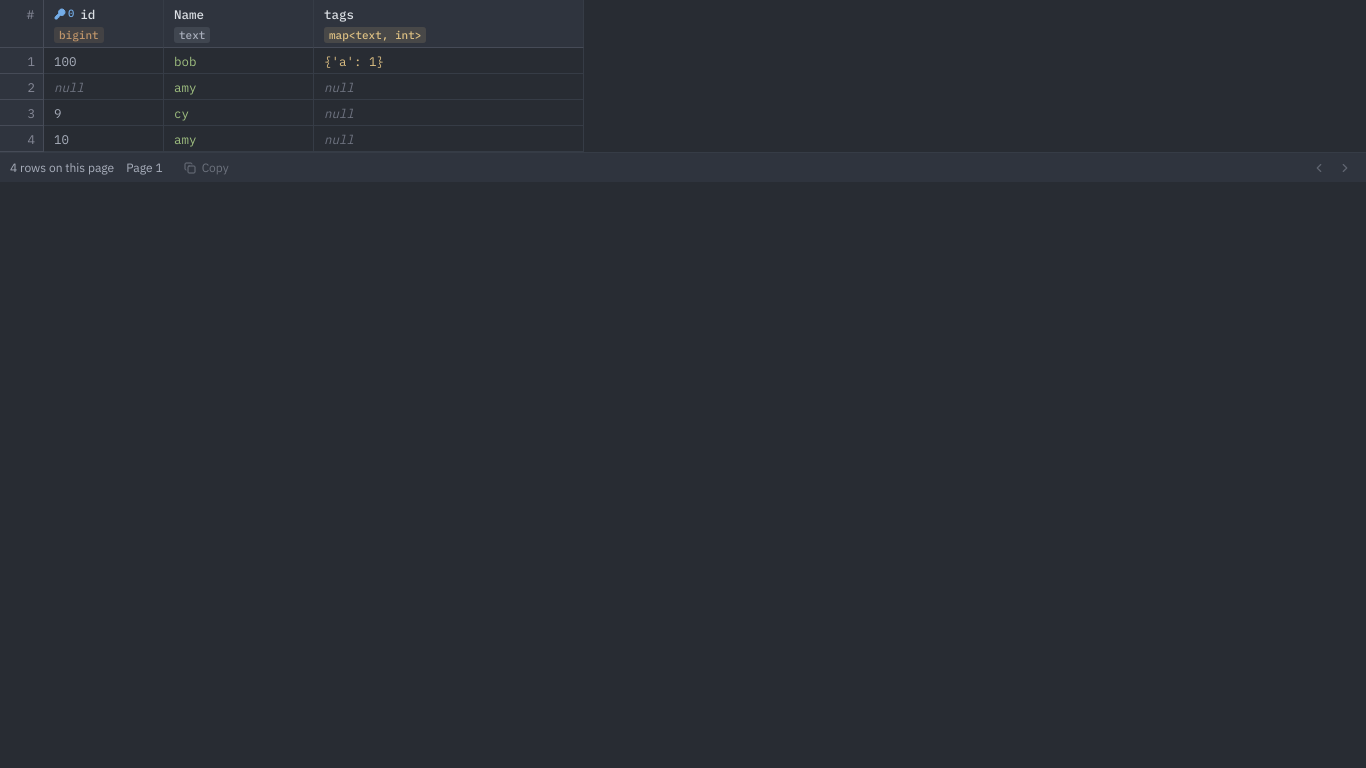
Test: local filter › disables Apply with an inline error for invalid numbers
The image size is (1366, 768).
Right-click the column heading "0 id bigint" at x=104, y=24, box [44,0,164,48]
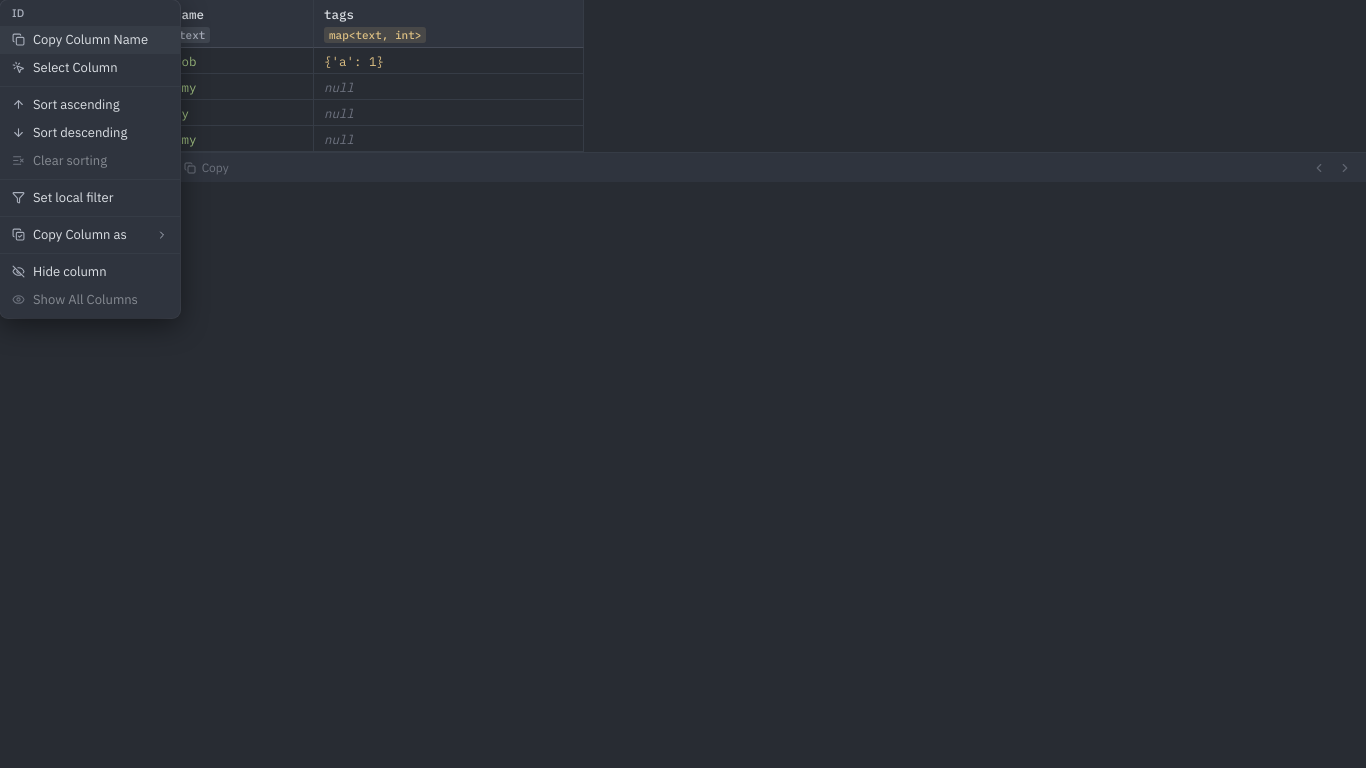
Click the menu item "Set local filter" at x=90, y=198, box [0,184,180,212]
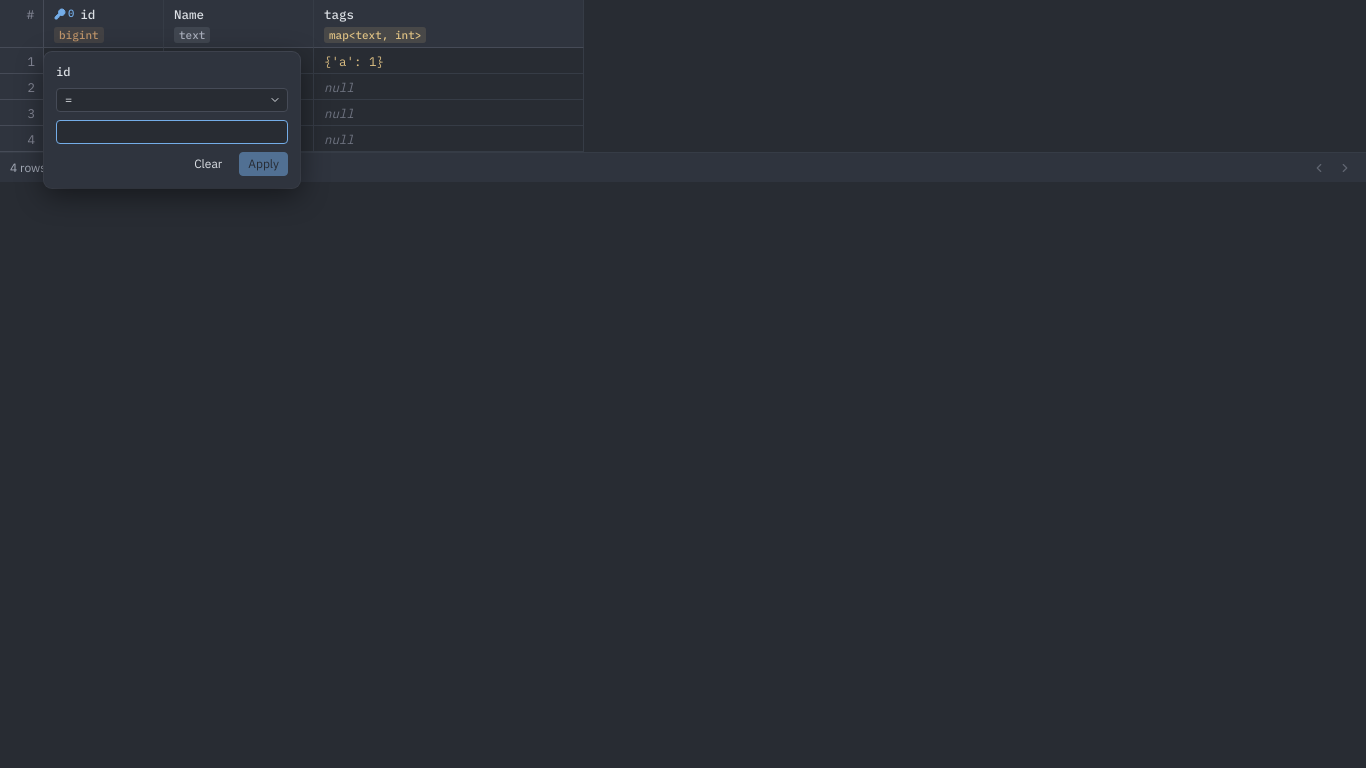
Click the button named "Operator" at x=172, y=100, box [56,88,288,112]
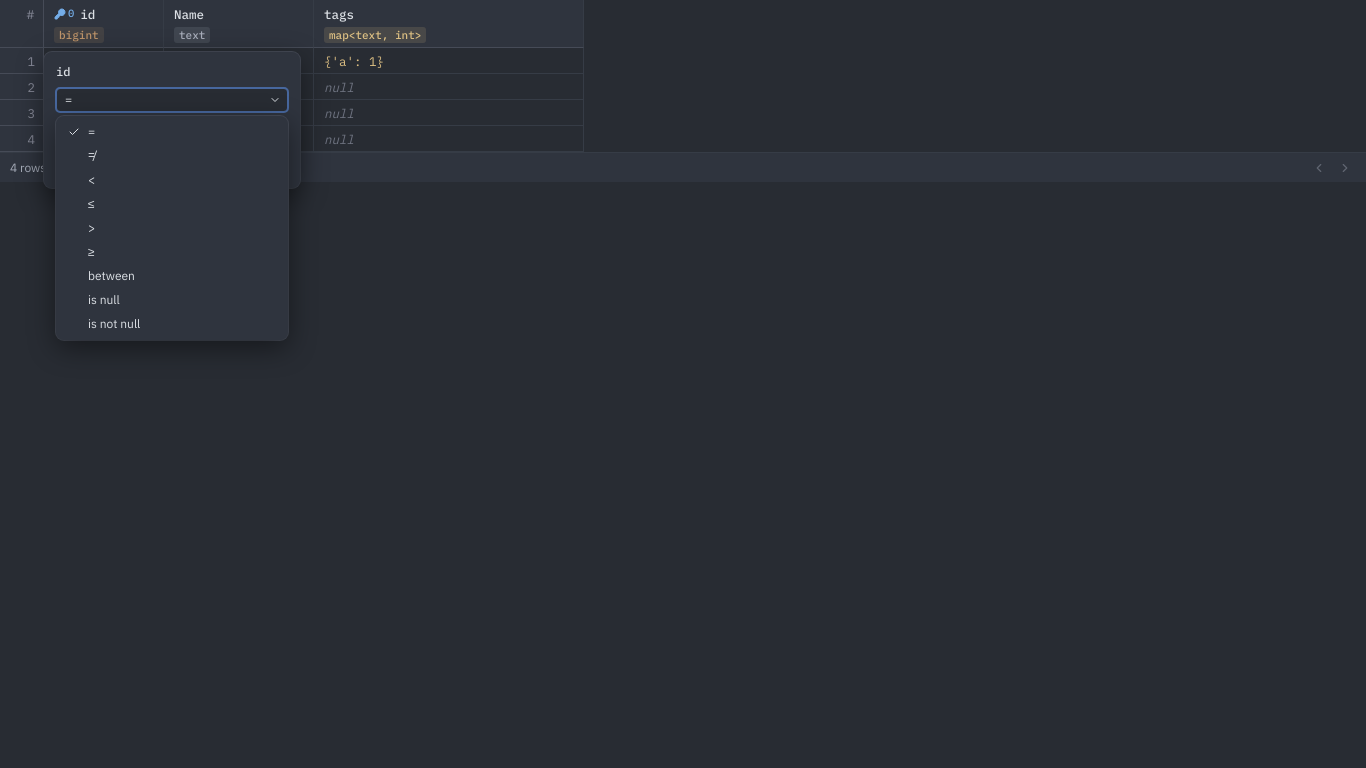
Click the option ">" at x=92, y=228, box [88,220,95,235]
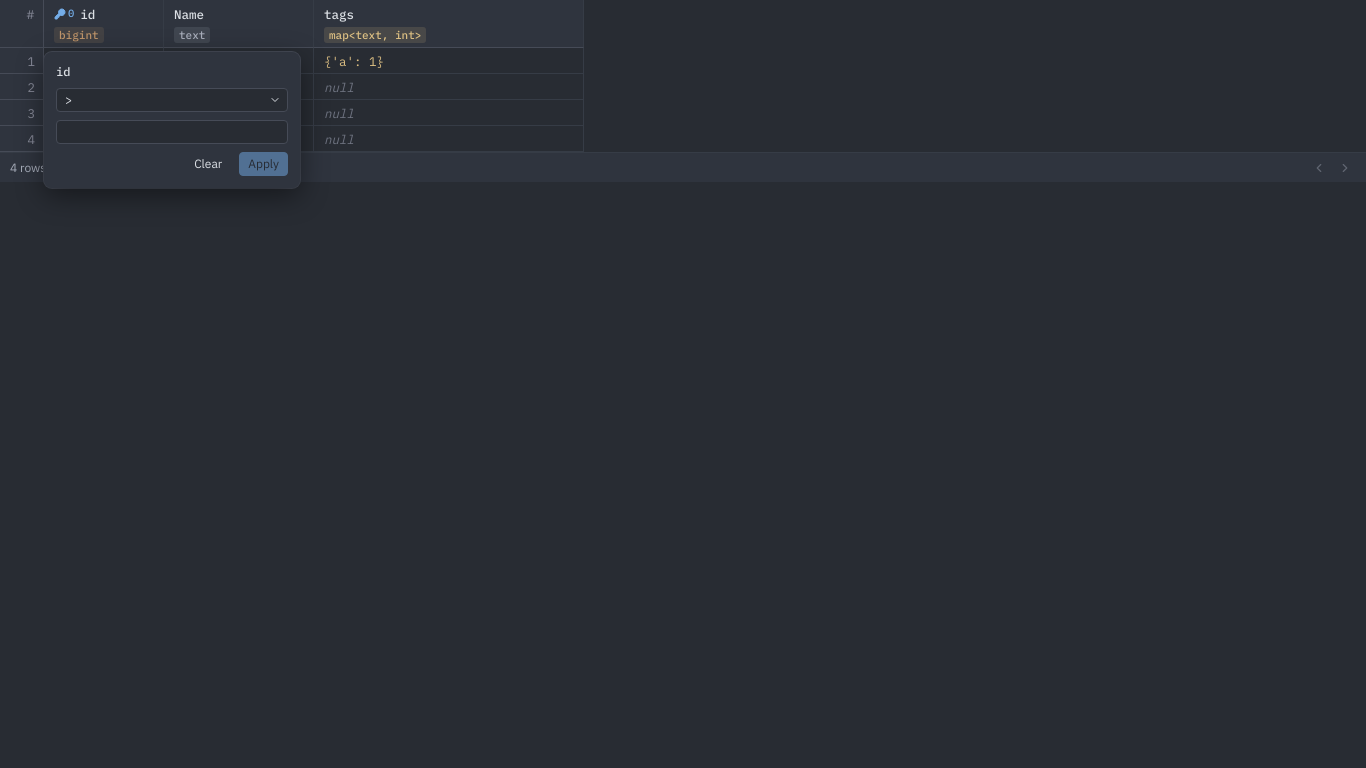
Type "abc" into the field named "Value" at x=172, y=132, box [56,120,288,144]
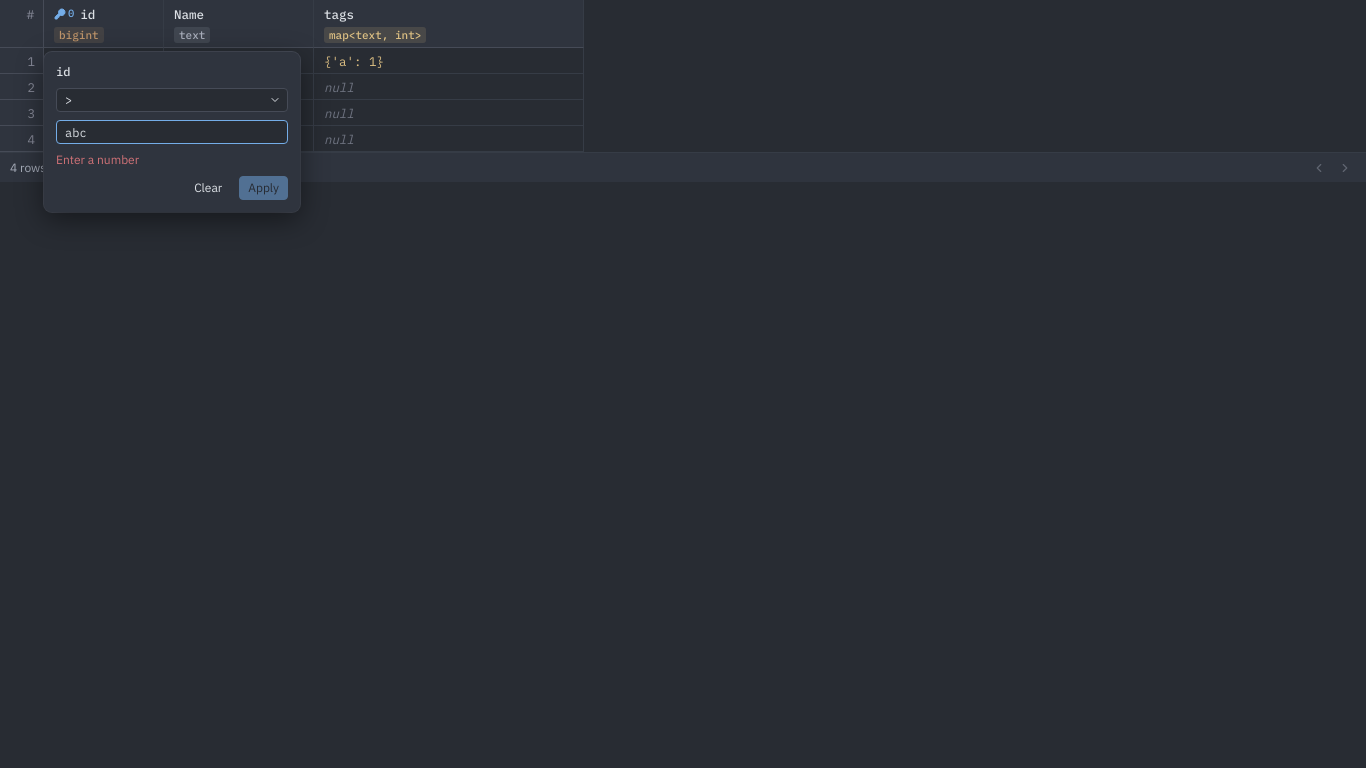
Expected: the button "Apply" is disabled, [239,176,288,200]
Expected: the message reads "Enter a number", [56,152,139,167]
